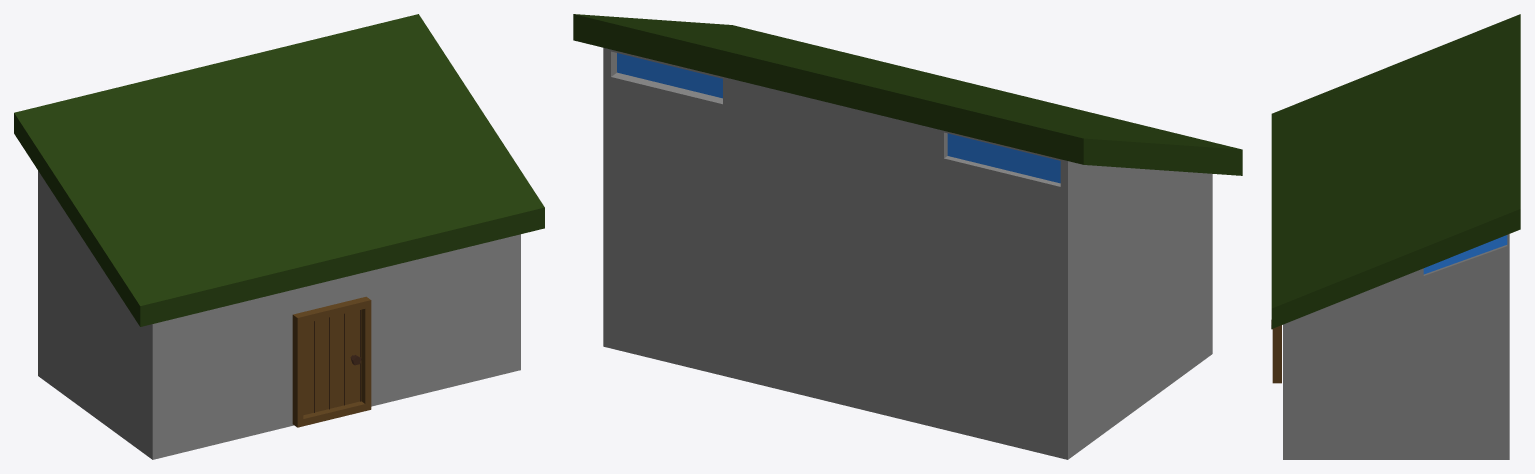
Rendered from Bathroom.glb.
The picture shows the model from 3 angles, left to right: view 1: azimuth 30°, elevation 25°; view 2: azimuth 150°, elevation 25°; view 3: azimuth 270°, elevation 25°; orthographic projection. The views are drawn at different scales.
Parts seen in each view (by area): view 1: Bathroom; view 2: Bathroom; view 3: Bathroom.
Part boxes in pixels (<box>): Bathroom: <box>14,14,544,459</box>; Bathroom: <box>573,14,1242,459</box>; Bathroom: <box>1271,14,1520,459</box>.
Size of the model in its own units: 11.22 by 6.98 by 6.07.
